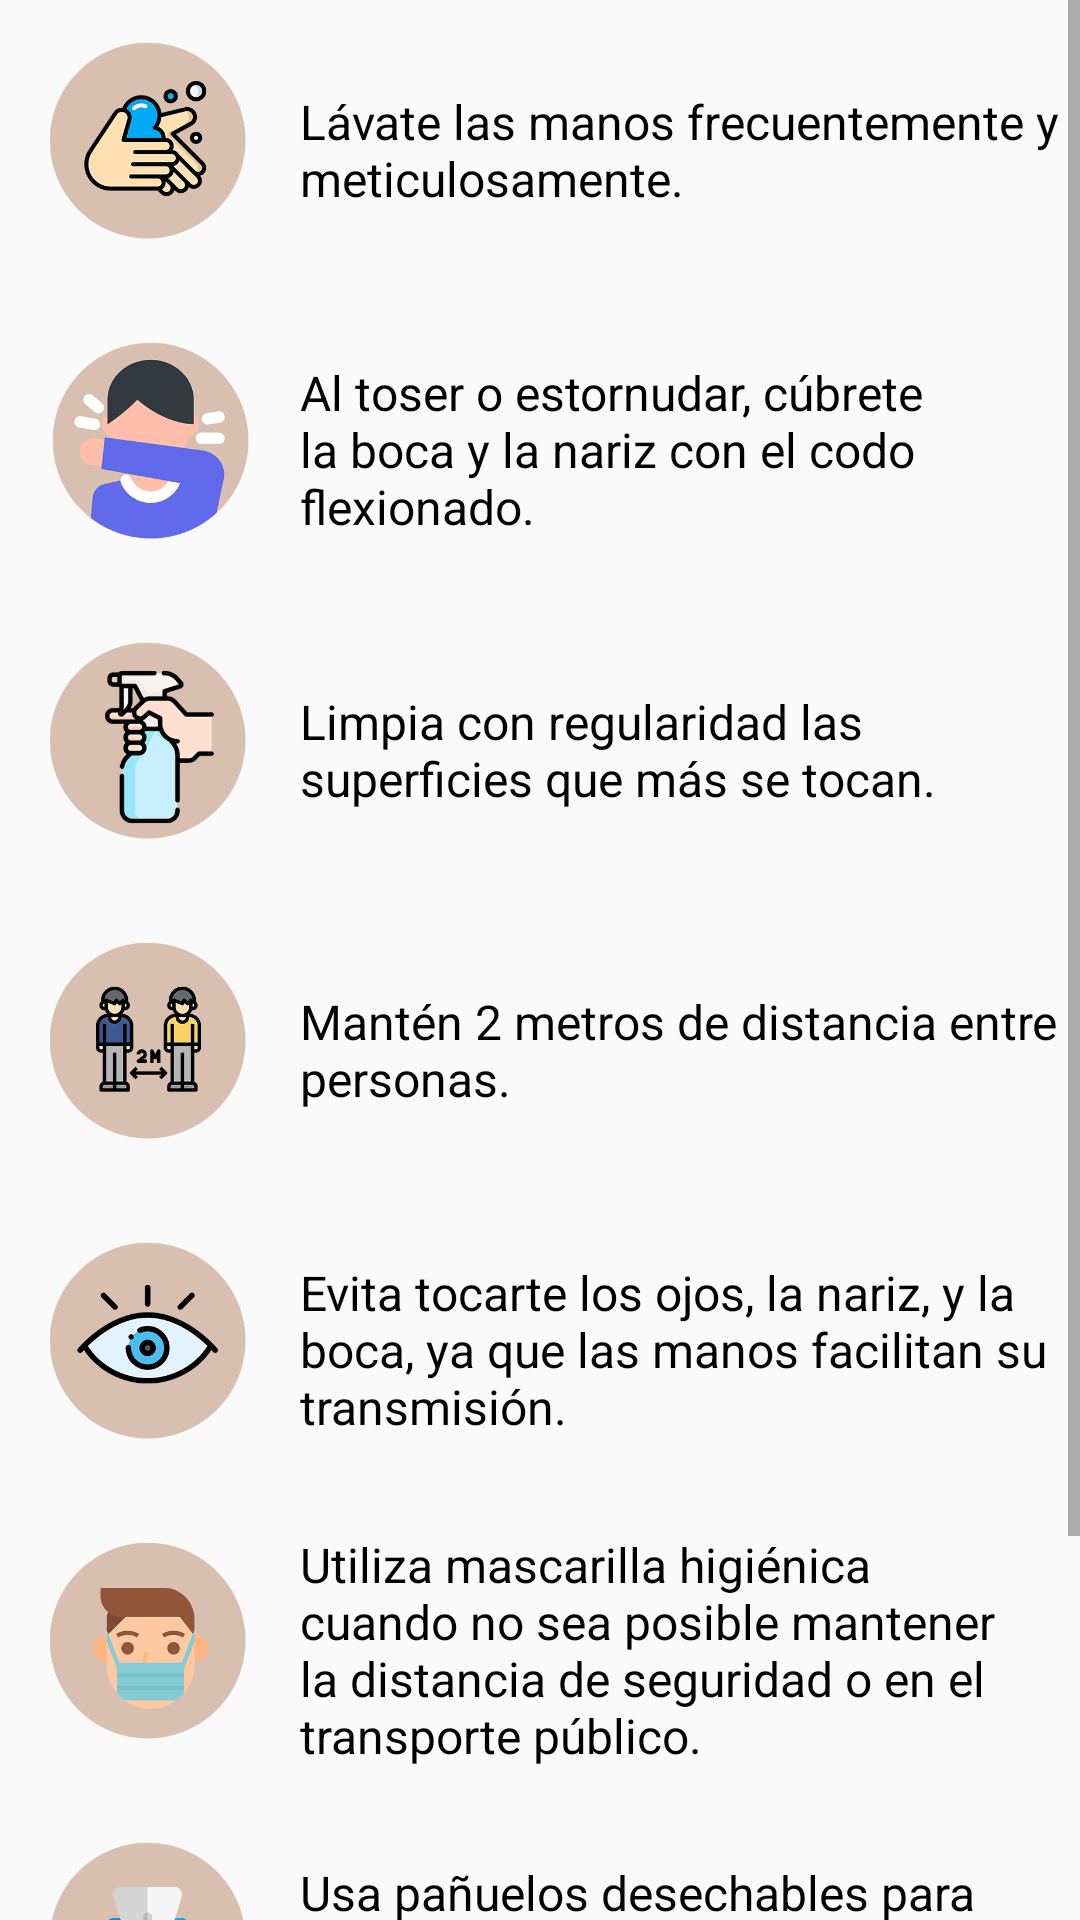

Icon click points for this 1080px x 1920px phone screenshot, format (x=x, y=y):
codor: (x=151, y=441)
manolimpia: (x=148, y=141)
ojo: (x=148, y=1341)
twomens: (x=148, y=1041)
